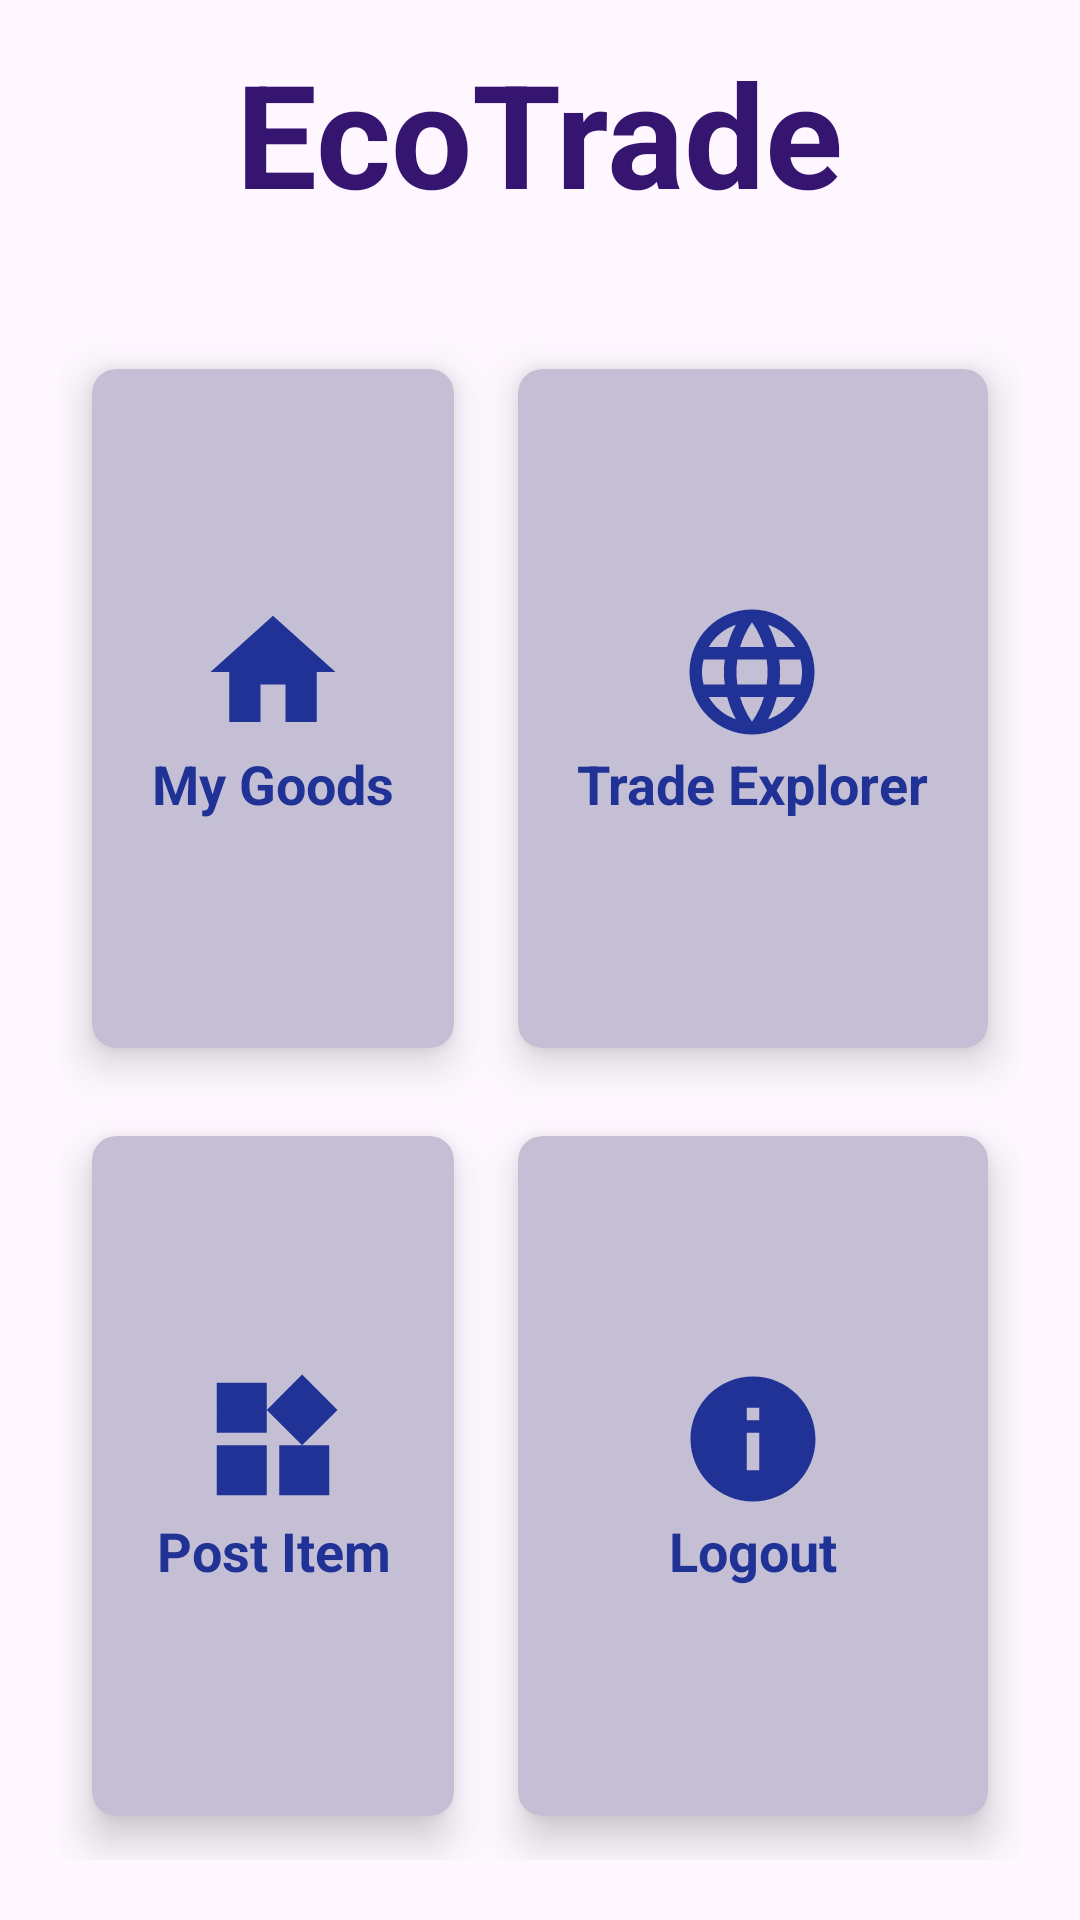

Screen size 1080px×1920px. Icon name, then its box in pixels as (x1, y1, x2, y2):
home: (211, 616, 335, 722)
widgets: (216, 1374, 337, 1496)
